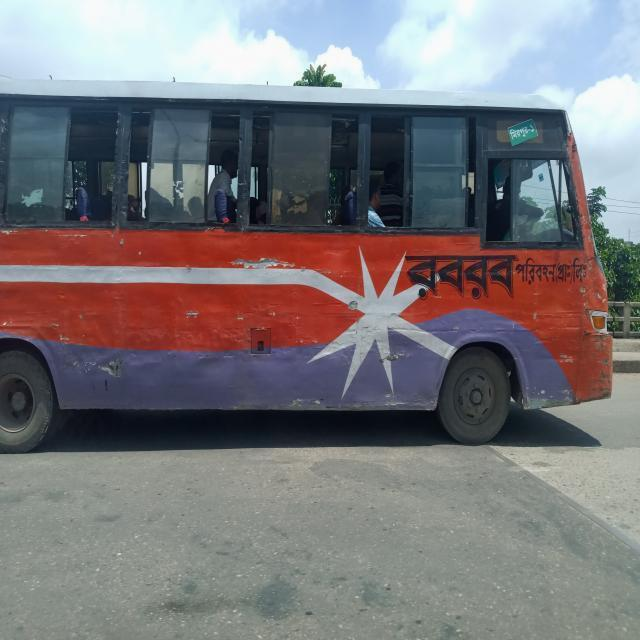bus: (2, 80, 614, 455)
